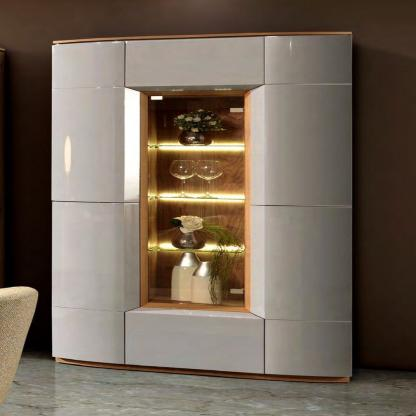Cupboard: (50, 31, 355, 385)
